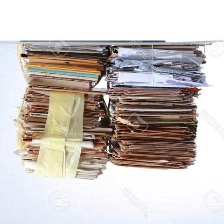news_paper: (103, 42, 213, 181), (8, 42, 111, 184)
